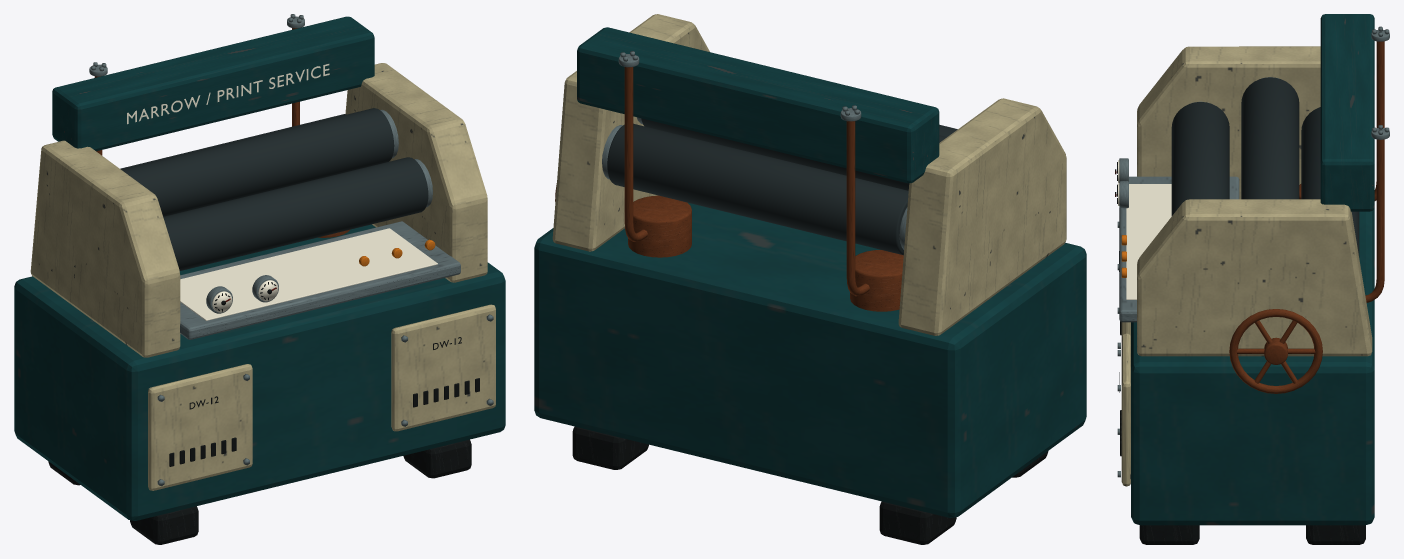
File: marrow-salvage-printer.glb
3 renders of one model, left to right at view 1: azimuth 30°, elevation 25°; view 2: azimuth 150°, elevation 25°; view 3: azimuth 270°, elevation 25°, orthographic. The views are drawn at different scales.
Parts seen in each view (by area): view 1: marrow-salvage-printer | Petrol enamel, marrow-salvage-printer | Aged ivory enamel, marrow-salvage-printer | Black rubber and ink, marrow-salvage-printer | Paper and gauge face, marrow-salvage-printer | Machined steel, marrow-salvage-printer | Cast graphite iron; view 2: marrow-salvage-printer | Petrol enamel, marrow-salvage-printer | Aged ivory enamel, marrow-salvage-printer | Black rubber and ink, marrow-salvage-printer | Copper ink plumbing, marrow-salvage-printer | Cast graphite iron, marrow-salvage-printer | Machined steel; view 3: marrow-salvage-printer | Petrol enamel, marrow-salvage-printer | Aged ivory enamel, marrow-salvage-printer | Black rubber and ink, marrow-salvage-printer | Copper ink plumbing, marrow-salvage-printer | Paper and gauge face, marrow-salvage-printer | Machined steel, marrow-salvage-printer | Cast graphite iron.
Boxes of the visible parts, x1,y1,x2,y2 form: marrow-salvage-printer | Petrol enamel: (14,16,505,520); marrow-salvage-printer | Aged ivory enamel: (30,63,495,490); marrow-salvage-printer | Black rubber and ink: (120,108,428,270); marrow-salvage-printer | Paper and gauge face: (127,64,437,320); marrow-salvage-printer | Machined steel: (89,14,493,486); marrow-salvage-printer | Cast graphite iron: (48,282,479,544); marrow-salvage-printer | Petrol enamel: (534,27,1086,517); marrow-salvage-printer | Aged ivory enamel: (552,14,1066,335); marrow-salvage-printer | Black rubber and ink: (607,118,957,255); marrow-salvage-printer | Copper ink plumbing: (555,67,903,311); marrow-salvage-printer | Cast graphite iron: (572,426,1048,544); marrow-salvage-printer | Machined steel: (602,51,907,249); marrow-salvage-printer | Petrol enamel: (1131,14,1374,525); marrow-salvage-printer | Aged ivory enamel: (1121,46,1372,486); marrow-salvage-printer | Black rubber and ink: (1171,77,1359,257); marrow-salvage-printer | Copper ink plumbing: (1229,41,1384,393); marrow-salvage-printer | Paper and gauge face: (1118,160,1171,299); marrow-salvage-printer | Machined steel: (1117,26,1389,477); marrow-salvage-printer | Cast graphite iron: (1115,162,1365,544).
Bounding box in the file's own units: 2.35 × 2.22 × 1.42.
Materials: 9 (7 with a texture image).
